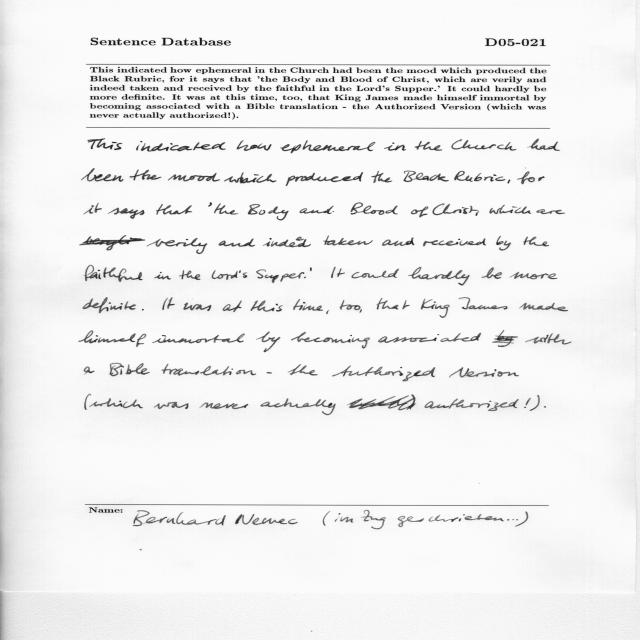word: (260, 394, 416, 415), (80, 236, 207, 255), (332, 366, 435, 382), (424, 398, 531, 411), (492, 330, 572, 347), (291, 332, 370, 349), (281, 141, 376, 154), (408, 267, 470, 286), (161, 364, 256, 376), (79, 330, 146, 347), (286, 172, 363, 186), (378, 333, 481, 343), (84, 265, 143, 282), (136, 141, 226, 152), (152, 334, 245, 344), (83, 298, 136, 314), (452, 139, 517, 151), (449, 367, 519, 378), (248, 204, 289, 220), (459, 297, 508, 310), (256, 270, 304, 283), (351, 202, 398, 215), (82, 168, 124, 182), (224, 173, 276, 184), (454, 171, 505, 182), (433, 203, 479, 215), (421, 299, 450, 318), (89, 398, 143, 408), (109, 364, 150, 377), (256, 332, 281, 353), (423, 239, 486, 247), (323, 236, 373, 246), (404, 171, 449, 182), (263, 237, 311, 247), (351, 269, 399, 279), (168, 173, 220, 182), (528, 138, 560, 151), (88, 138, 122, 150), (108, 208, 145, 219), (156, 204, 192, 215), (250, 300, 283, 312), (519, 303, 568, 311), (237, 140, 272, 151), (489, 205, 531, 214), (376, 298, 410, 309), (517, 172, 545, 185), (293, 299, 323, 311), (130, 170, 162, 181), (212, 270, 247, 280), (288, 364, 317, 376), (510, 272, 558, 279), (219, 238, 256, 247), (200, 403, 249, 409), (214, 203, 238, 215), (382, 237, 414, 246), (300, 206, 334, 214), (415, 141, 442, 151), (523, 237, 549, 247), (372, 171, 393, 183), (482, 267, 502, 279), (154, 402, 188, 409), (496, 236, 511, 251), (184, 303, 212, 311), (179, 270, 201, 280), (222, 301, 242, 312), (340, 300, 361, 310), (384, 142, 406, 151), (84, 203, 102, 214), (411, 207, 428, 218), (529, 395, 540, 411), (162, 297, 175, 310), (537, 209, 565, 214), (154, 272, 171, 279), (304, 268, 312, 279), (84, 367, 95, 375), (337, 268, 345, 277), (331, 267, 336, 278), (208, 203, 212, 207), (476, 211, 479, 216), (508, 180, 511, 184), (326, 310, 329, 314), (359, 309, 362, 313), (267, 372, 272, 374), (544, 406, 546, 408), (119, 401, 122, 402), (142, 309, 144, 310)
